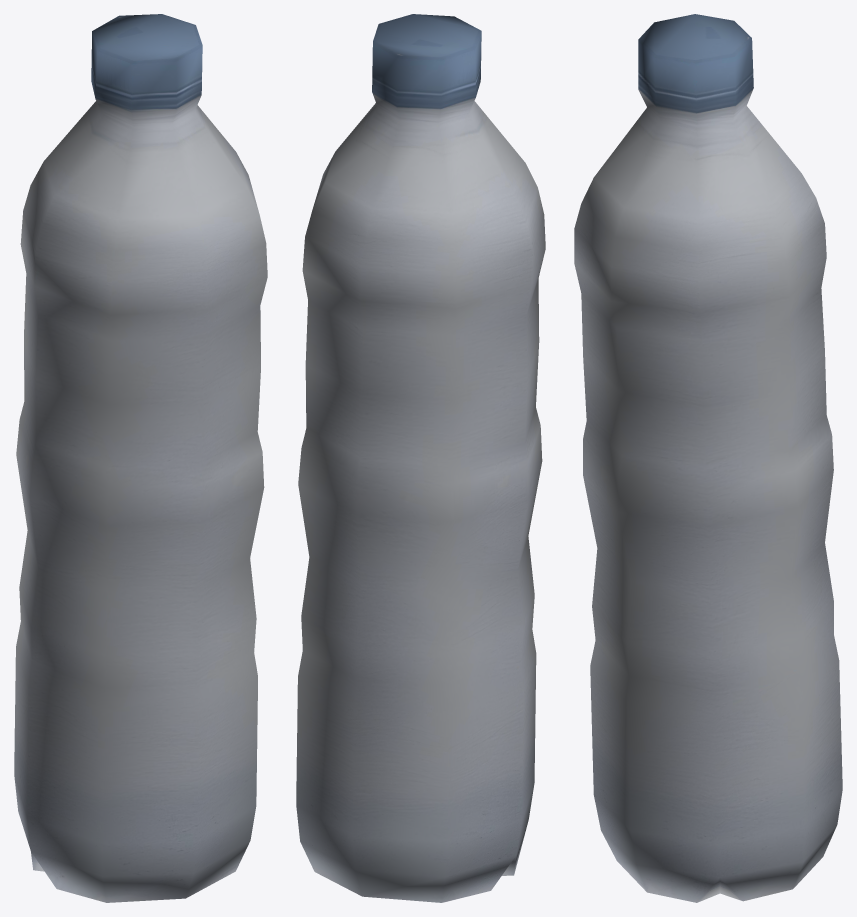
The model's file is Water.fbx.
3 views of the same model, side by side, from view 1: azimuth 30°, elevation 25°; view 2: azimuth 150°, elevation 25°; view 3: azimuth 270°, elevation 25° (orthographic).
Visible parts, largest first — view 1: tripo_node_69aefa30-8c6f-4cbb-8fc0-a4b5e86d2c5a; view 2: tripo_node_69aefa30-8c6f-4cbb-8fc0-a4b5e86d2c5a; view 3: tripo_node_69aefa30-8c6f-4cbb-8fc0-a4b5e86d2c5a.
Part boxes in pixels (box(x1,y1,x2,y2)): tripo_node_69aefa30-8c6f-4cbb-8fc0-a4b5e86d2c5a: box(14, 14, 267, 902); tripo_node_69aefa30-8c6f-4cbb-8fc0-a4b5e86d2c5a: box(296, 14, 545, 902); tripo_node_69aefa30-8c6f-4cbb-8fc0-a4b5e86d2c5a: box(574, 14, 842, 902).
Size of the model in its own units: 27.54 by 99.8 by 29.49.
Materials: 1 (1 with a texture image).
